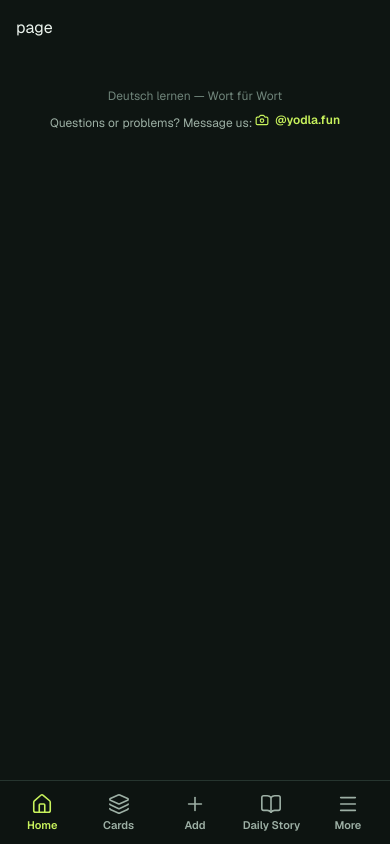
Test: bottom navigation › Search is not in More when word_search is off
This screenshot has width=390, height=844.
Click the button "More". click: (348, 812)
box: [310,781,386,843]
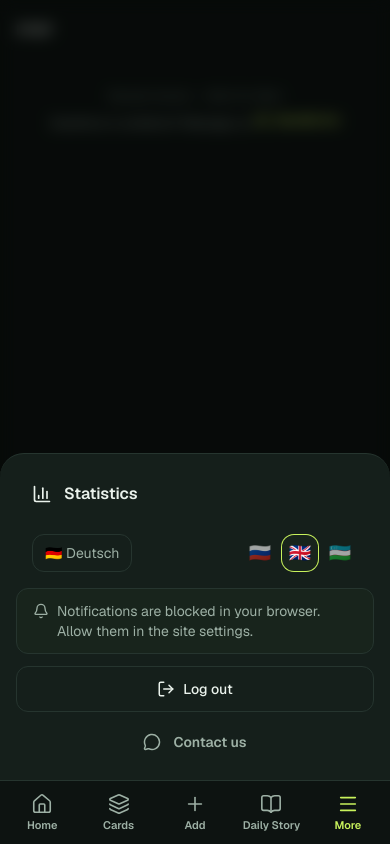
Now the link "Statistics" is shown, box [32,483,138,504]
